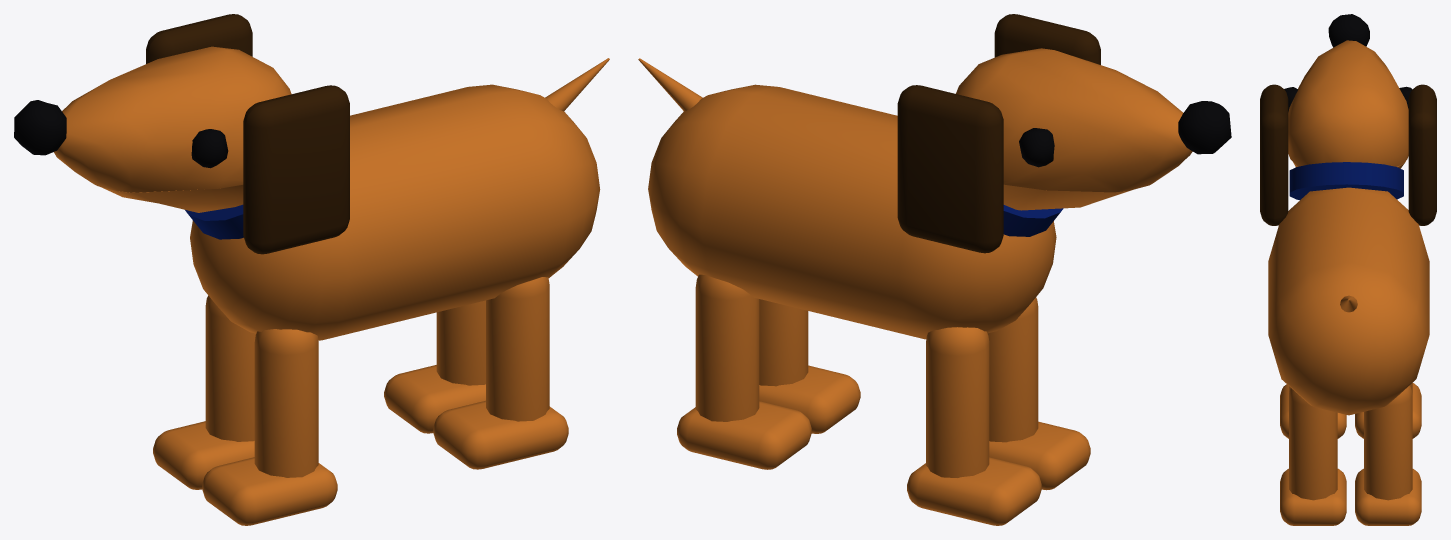
Rendered from dog5.dae.
The picture shows the model from 3 angles, left to right: view 1: azimuth 30°, elevation 25°; view 2: azimuth 150°, elevation 25°; view 3: azimuth 270°, elevation 25°; orthographic projection. The views are drawn at different scales.
Visible parts, largest first — view 1: body, head, earLeft, armLeft, legLeft, ArmRight, pawFrontLeft, pawBackLeft, pawFrontRight, pawBackRight, legRight, earRight (+5 smaller); view 2: body, head, earRight, ArmRight, legRight, armLeft, pawFrontRight, pawBackRight, legLeft, pawFrontLeft, pawBackLeft, earLeft (+5 smaller); view 3: body, head, legRight, legLeft, earLeft, earRight, collar, pawBackLeft, pawBackRight, nose, pawFrontRight, pawFrontLeft (+1 smaller).
Boxes of the visible parts, left/top/right/bottom form: body: left=190, top=84, right=600, bottom=340; head: left=54, top=46, right=291, bottom=192; earLeft: left=243, top=85, right=349, bottom=254; armLeft: left=254, top=329, right=318, bottom=477; legLeft: left=486, top=277, right=549, bottom=421; ArmRight: left=205, top=295, right=255, bottom=441; pawFrontLeft: left=202, top=457, right=337, bottom=525; pawBackLeft: left=433, top=400, right=568, bottom=469; pawFrontRight: left=153, top=421, right=254, bottom=489; pawBackRight: left=384, top=365, right=485, bottom=433; legRight: left=436, top=300, right=485, bottom=385; earRight: left=146, top=14, right=252, bottom=63; body: left=648, top=84, right=1056, bottom=339; head: left=956, top=48, right=1192, bottom=192; earRight: left=897, top=85, right=1003, bottom=253; ArmRight: left=926, top=327, right=989, bottom=477; legRight: left=695, top=274, right=759, bottom=421; armLeft: left=987, top=297, right=1038, bottom=442; pawFrontRight: left=907, top=457, right=1041, bottom=525; pawBackRight: left=677, top=401, right=811, bottom=469; legLeft: left=759, top=299, right=808, bottom=386; pawFrontLeft: left=989, top=421, right=1090, bottom=490; pawBackLeft: left=759, top=365, right=860, bottom=433; earLeft: left=994, top=14, right=1100, bottom=64; body: left=1268, top=187, right=1429, bottom=415; head: left=1288, top=40, right=1408, bottom=166; legRight: left=1364, top=385, right=1412, bottom=500; legLeft: left=1289, top=388, right=1337, bottom=500; earLeft: left=1260, top=84, right=1288, bottom=225; earRight: left=1408, top=84, right=1436, bottom=225; collar: left=1289, top=162, right=1403, bottom=200; pawBackLeft: left=1280, top=468, right=1346, bottom=525; pawBackRight: left=1355, top=468, right=1421, bottom=525; nose: left=1328, top=14, right=1369, bottom=47; pawFrontRight: left=1355, top=383, right=1421, bottom=438; pawFrontLeft: left=1280, top=384, right=1346, bottom=438.
Size of the model in its own units: 46 by 32.77 by 15.62.
